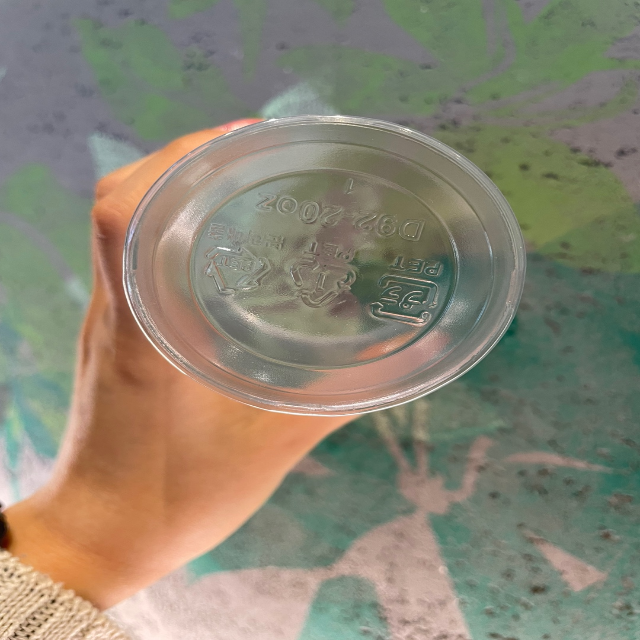pet: (201, 214, 287, 305), (370, 250, 449, 331), (288, 235, 360, 319)
